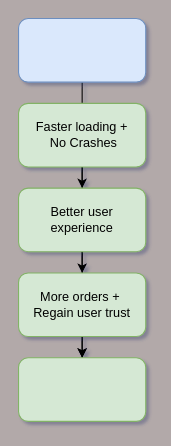
Image size: 171x446. Some labels were removed from this diagram. The centre of each missing label's shape, as x and y in pixels:
Performance Optimization: (x=81, y=49)
Revenue Growth: (x=81, y=389)
